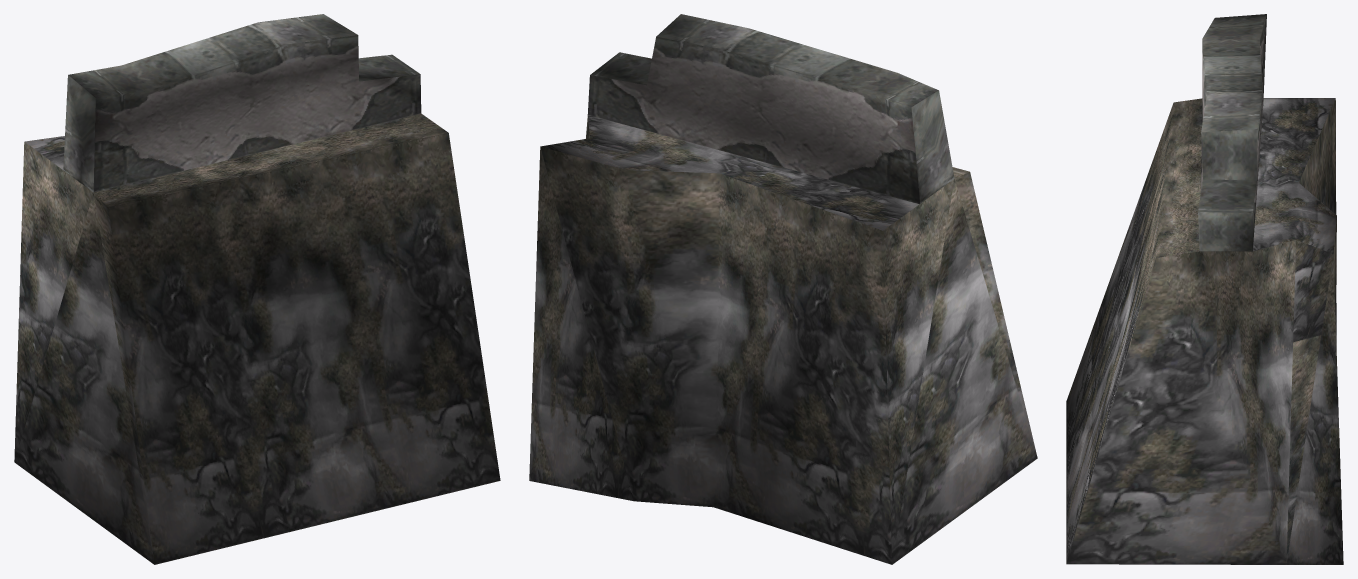
File: duskwoodruins04.obj
The picture shows the model from 3 angles, left to right: view 1: azimuth 30°, elevation 25°; view 2: azimuth 150°, elevation 25°; view 3: azimuth 270°, elevation 25°; orthographic projection. The views are drawn at different scales.
Visible parts, largest first — view 1: DUSKWOODRUINS041, DUSKWOODRUINS040; view 2: DUSKWOODRUINS041, DUSKWOODRUINS040; view 3: DUSKWOODRUINS041, DUSKWOODRUINS040.
Part boxes in pixels (bbox=[...]): DUSKWOODRUINS041: bbox=[14, 113, 500, 564]; DUSKWOODRUINS040: bbox=[63, 14, 421, 192]; DUSKWOODRUINS041: bbox=[529, 115, 1037, 564]; DUSKWOODRUINS040: bbox=[587, 14, 954, 203]; DUSKWOODRUINS041: bbox=[1066, 98, 1343, 564]; DUSKWOODRUINS040: bbox=[1198, 14, 1266, 251].
Bounding box in the file's own units: 4.67 × 5.42 × 3.36.
2 materials, 2 textured.
